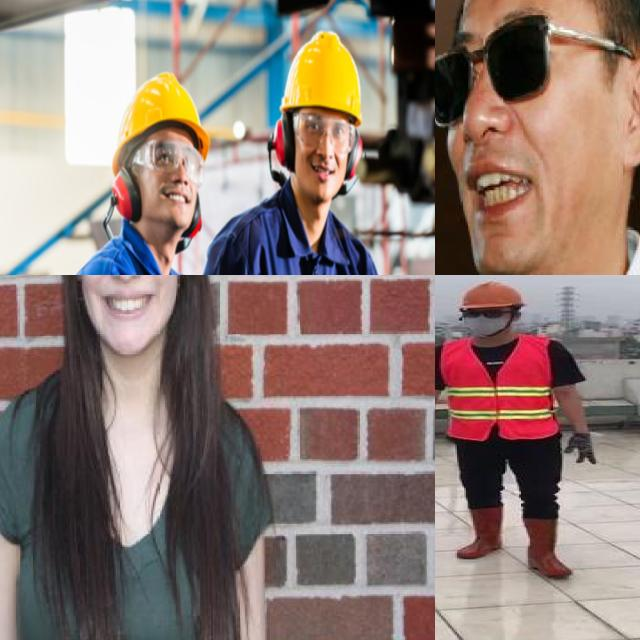Ear-protection: (110, 73, 218, 266), (269, 27, 372, 224)
No_Ear-Protection: (621, 45, 640, 172)
boots: (519, 517, 573, 580), (455, 505, 507, 560)
face_mask: (454, 304, 513, 337)
face_nomask: (435, 12, 570, 240), (75, 275, 178, 325)
glasses: (435, 2, 621, 115), (291, 110, 358, 156), (133, 140, 208, 174), (456, 305, 508, 322)
hand_glove: (562, 432, 596, 464)
head_helmet: (458, 278, 529, 312)
person: (0, 275, 274, 640), (435, 275, 610, 592), (257, 3, 435, 275), (75, 50, 244, 275)
vest: (439, 338, 558, 442)
